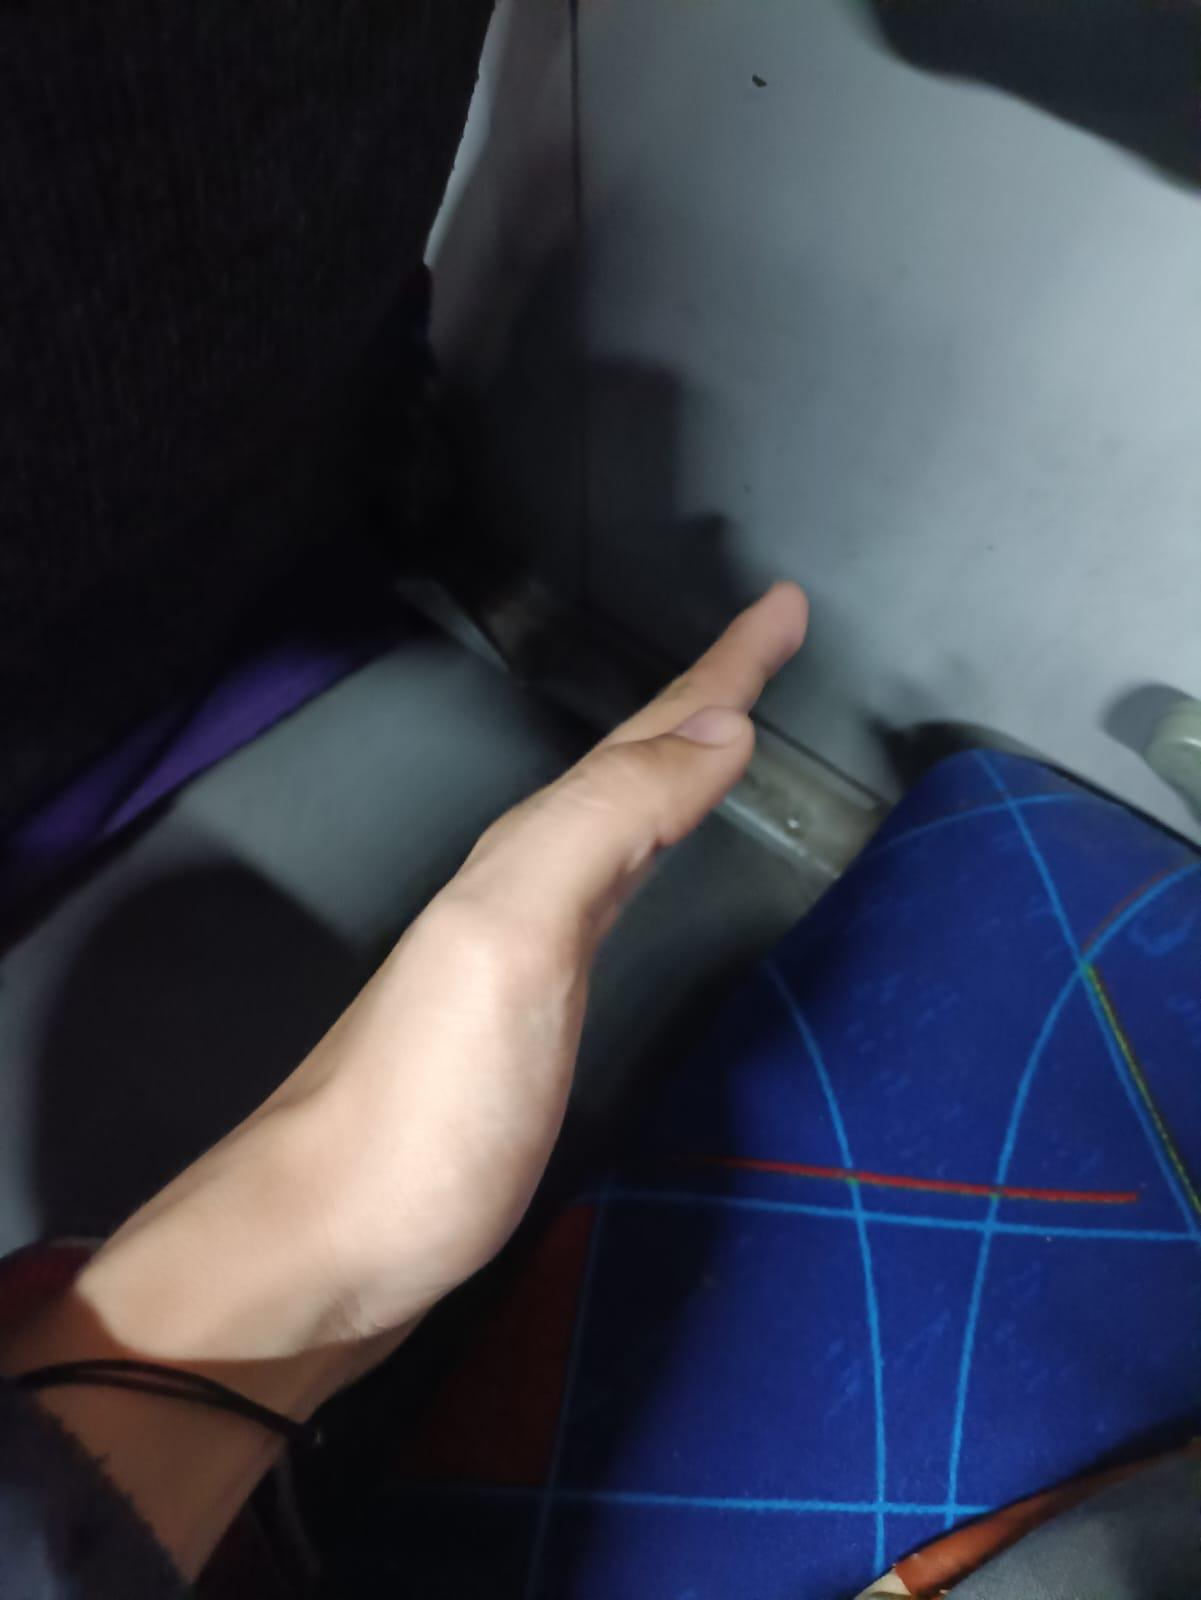Paper: (0, 503, 893, 1590)
